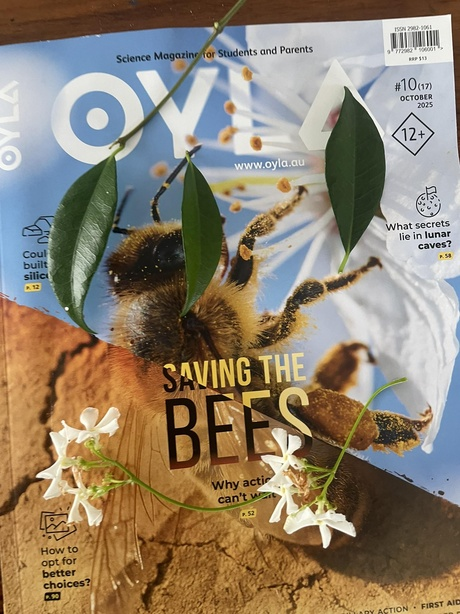leaf: (41, 141, 127, 343), (320, 77, 392, 273), (174, 145, 227, 320)
